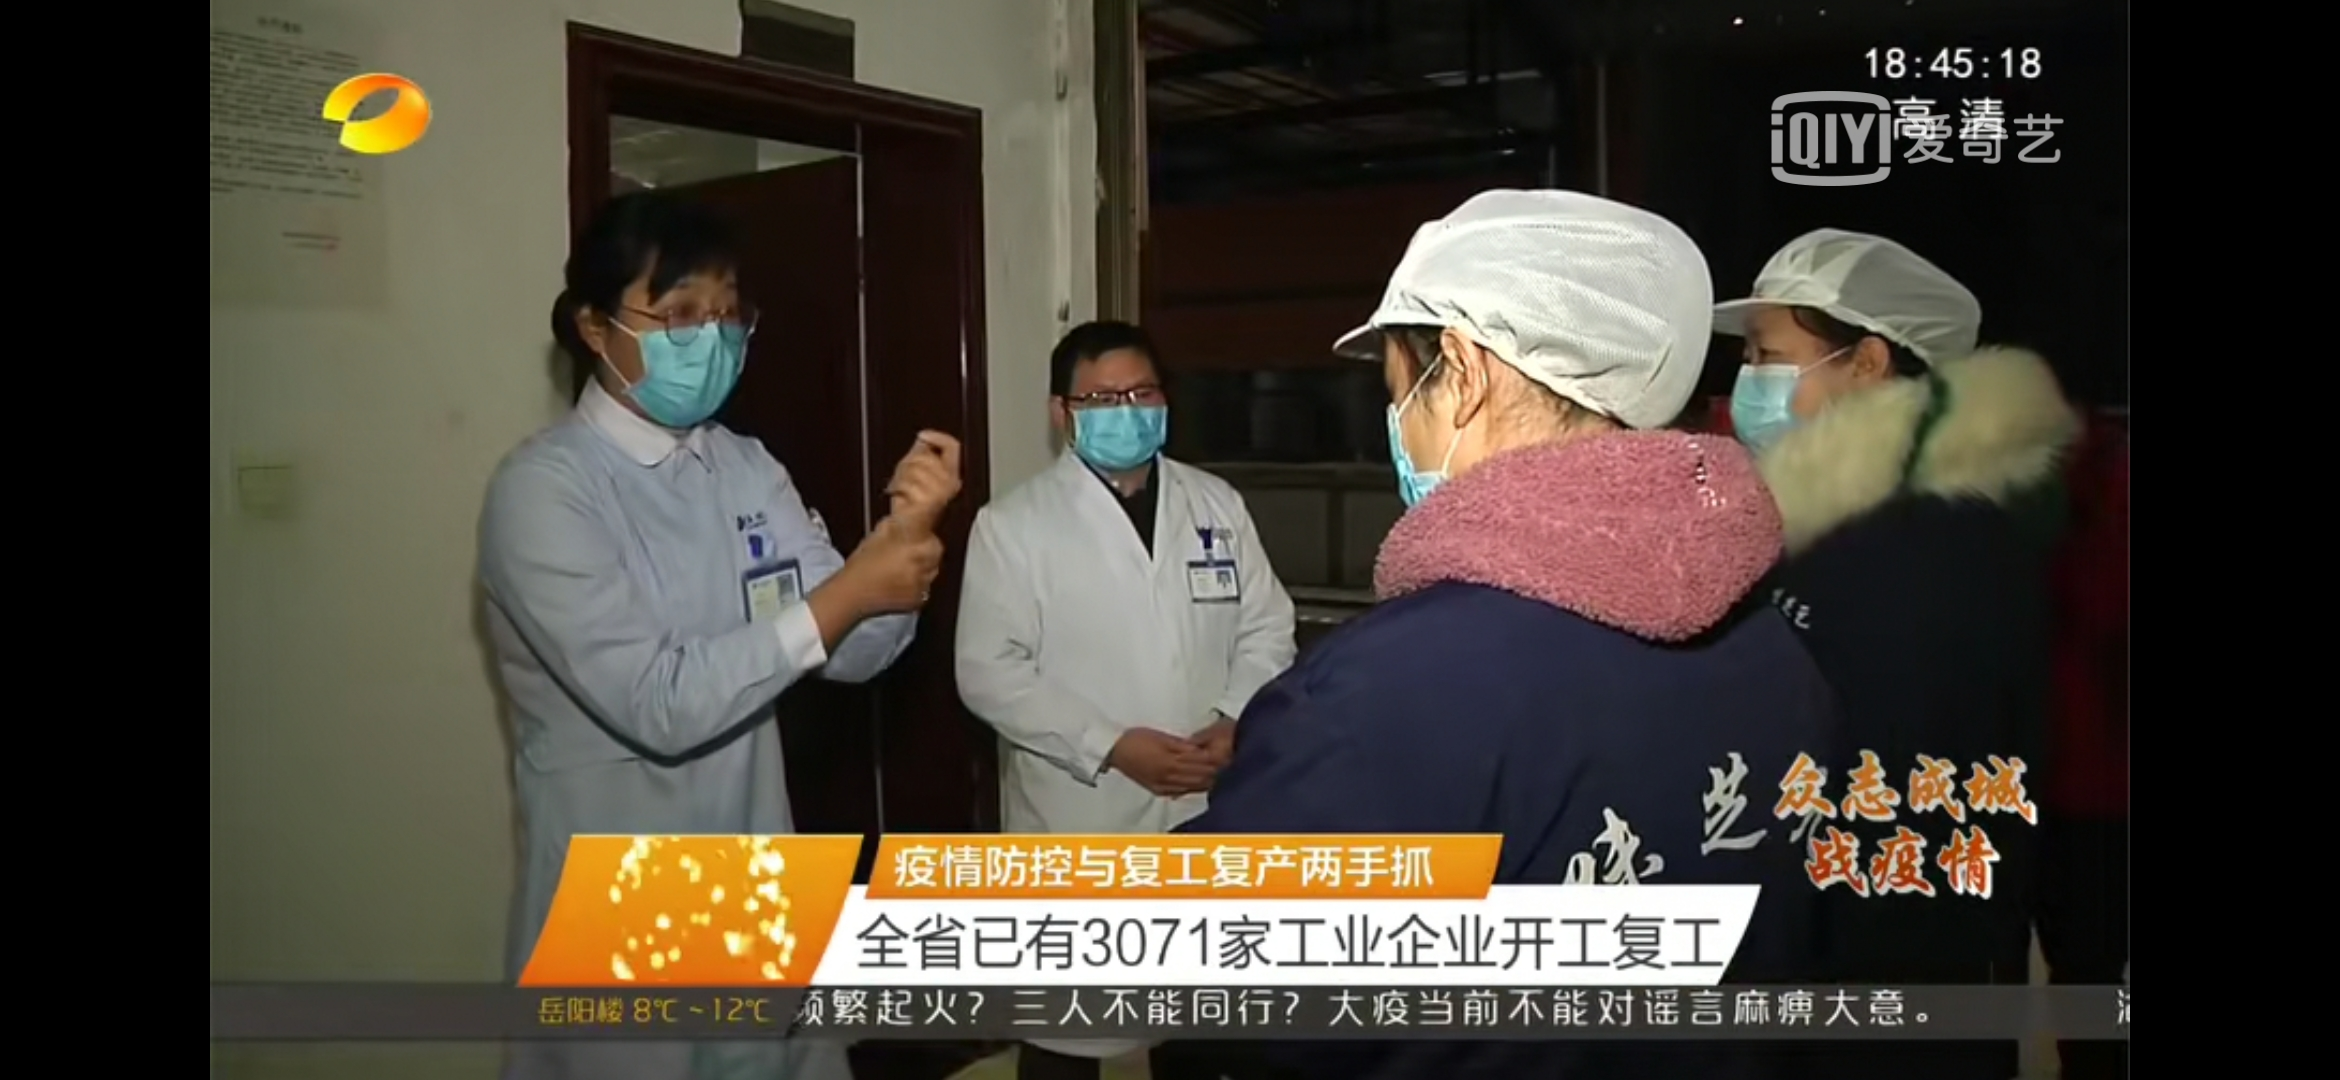correctlyWear: (572, 264, 758, 450), (1368, 321, 1519, 518), (1721, 303, 1883, 449), (1064, 358, 1177, 477)
